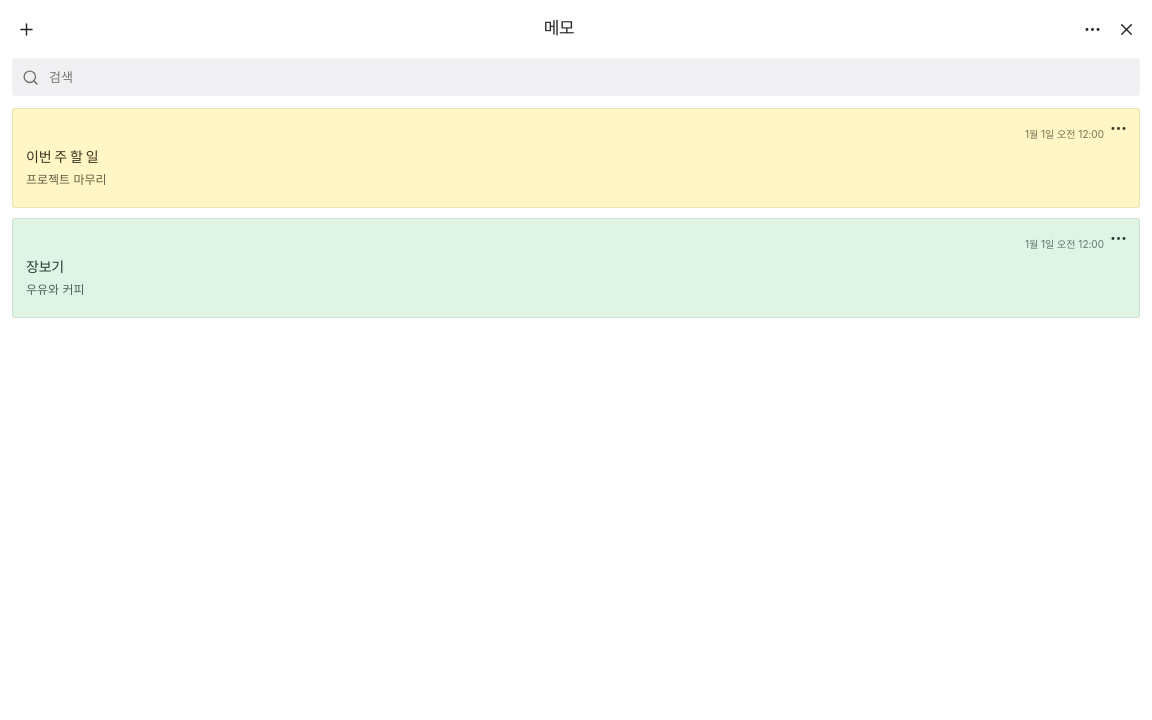
Test: NotesList › deletion requires confirmation before removing stored content
Check: the heading "장보기" is shown, box [26, 258, 64, 275]
Click the button named "장보기 메모 옵션". click: (1118, 238)
box: [1105, 225, 1132, 252]
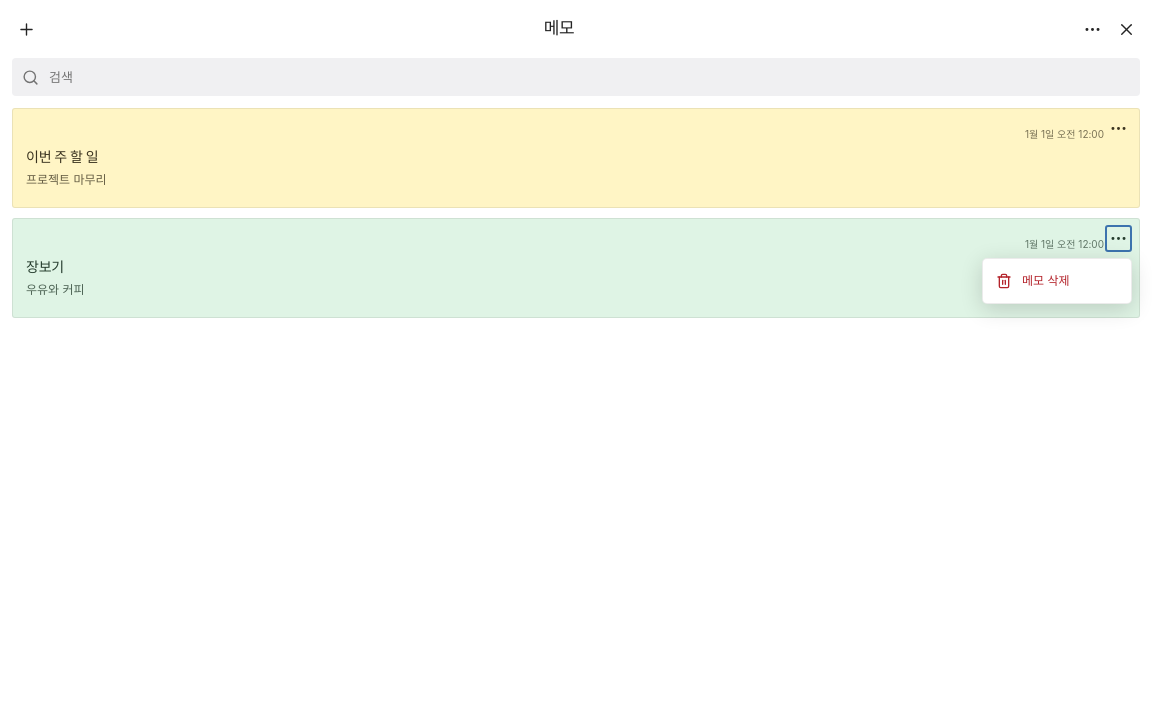
Click the button "메모 삭제". click: (1057, 281)
box: [988, 264, 1126, 298]
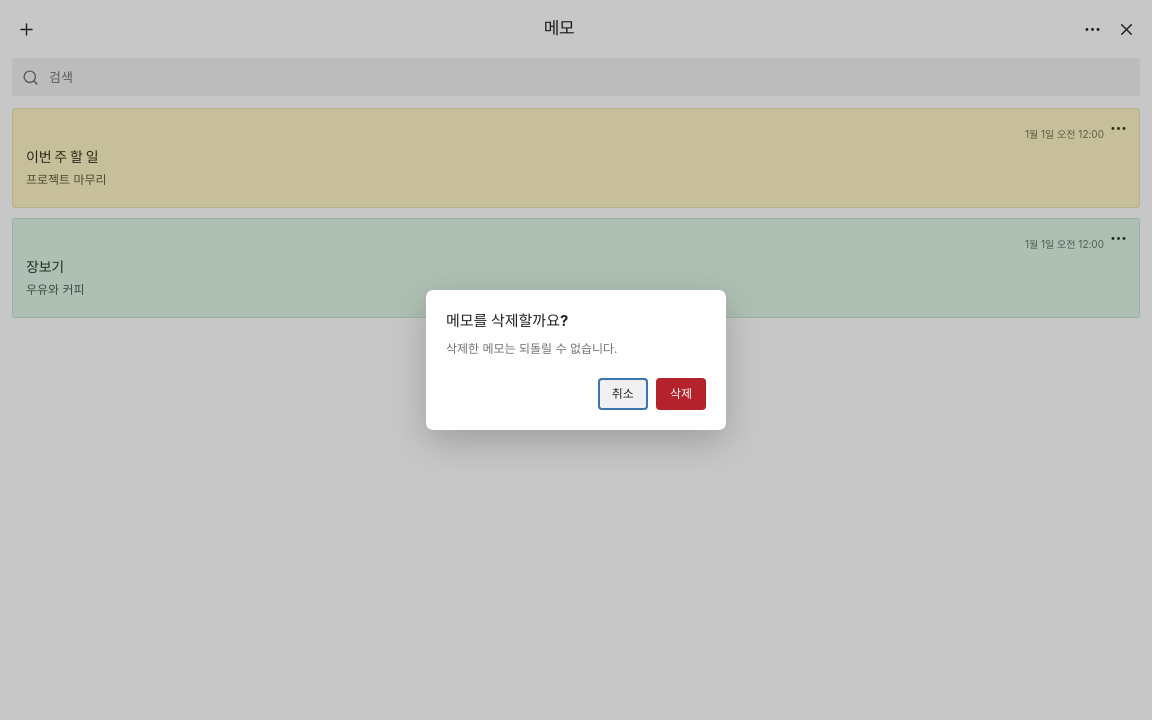
Check: the dialog is shown, box [426, 290, 726, 430]
Click the button "삭제". click: (681, 394)
box: [656, 378, 706, 410]
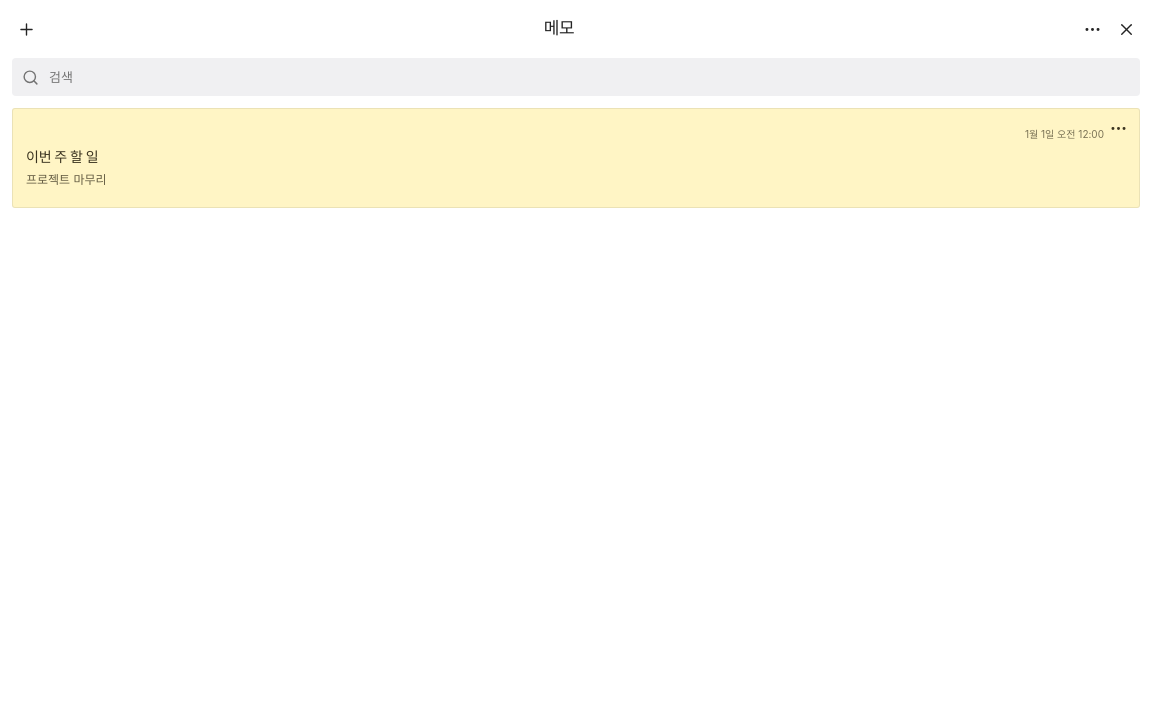
Check: the button "장보기" is gone
